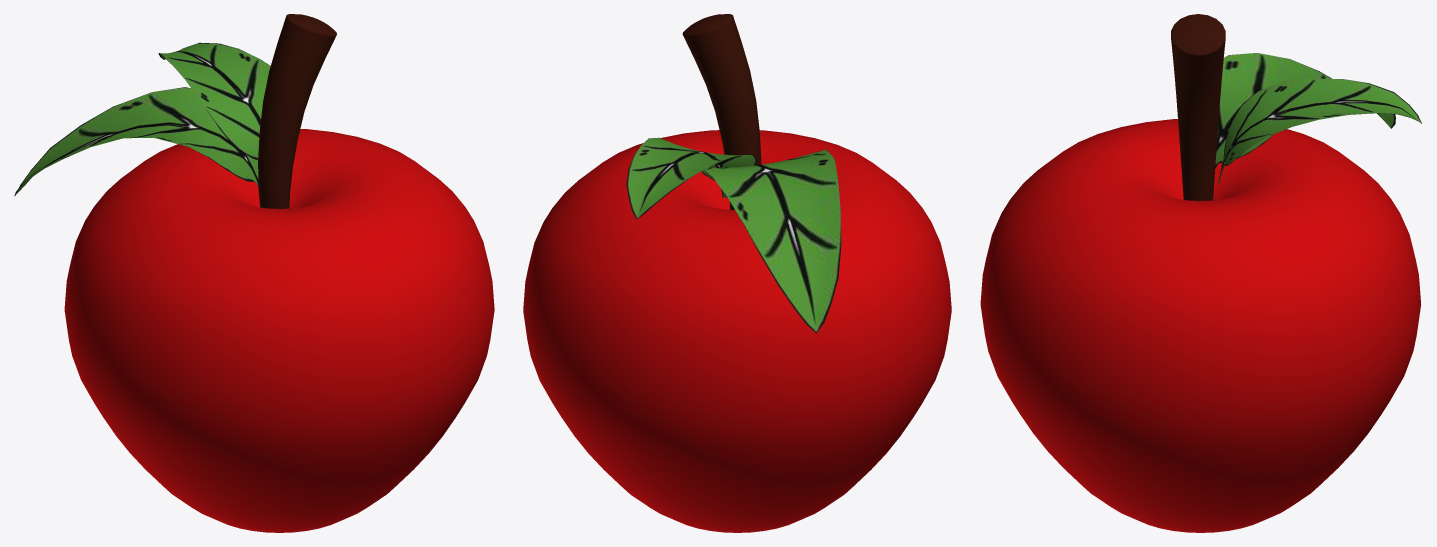
Rendered from apple_smooth.obj.
3 views of the same model, side by side, from view 1: azimuth 30°, elevation 25°; view 2: azimuth 150°, elevation 25°; view 3: azimuth 270°, elevation 25° (orthographic). The views are drawn at different scales.
Parts seen in each view (by area): view 1: body_Plane, tip_Plane.001, leaf1_Plane.002, leaf2_Plane.003, leaf1_fliped_Plane.004, leaf2_fliped_Plane.005; view 2: body_Plane, leaf1_Plane.002, tip_Plane.001, leaf2_Plane.003, leaf1_fliped_Plane.004, leaf2_fliped_Plane.005; view 3: body_Plane, tip_Plane.001, leaf2_Plane.003, leaf1_Plane.002, leaf2_fliped_Plane.005, leaf1_fliped_Plane.004.
Part boxes in pixels (x1,y1,x2,y2): body_Plane: (64,129,494,532); tip_Plane.001: (258,14,336,208); leaf1_Plane.002: (14,87,258,196); leaf2_Plane.003: (158,42,270,159); leaf1_fliped_Plane.004: (15,88,257,193); leaf2_fliped_Plane.005: (159,43,270,159); body_Plane: (523,130,951,532); leaf1_Plane.002: (701,149,841,333); tip_Plane.001: (682,14,761,209); leaf2_Plane.003: (626,137,756,219); leaf1_fliped_Plane.004: (703,150,840,330); leaf2_fliped_Plane.005: (627,138,755,216); body_Plane: (980,119,1421,532); tip_Plane.001: (1171,14,1225,200); leaf2_Plane.003: (1218,78,1421,184); leaf1_Plane.002: (1215,53,1395,168); leaf2_fliped_Plane.005: (1220,78,1420,175); leaf1_fliped_Plane.004: (1215,53,1394,166).
Size of the model in its own units: 3.57 by 4.41 by 3.58.
